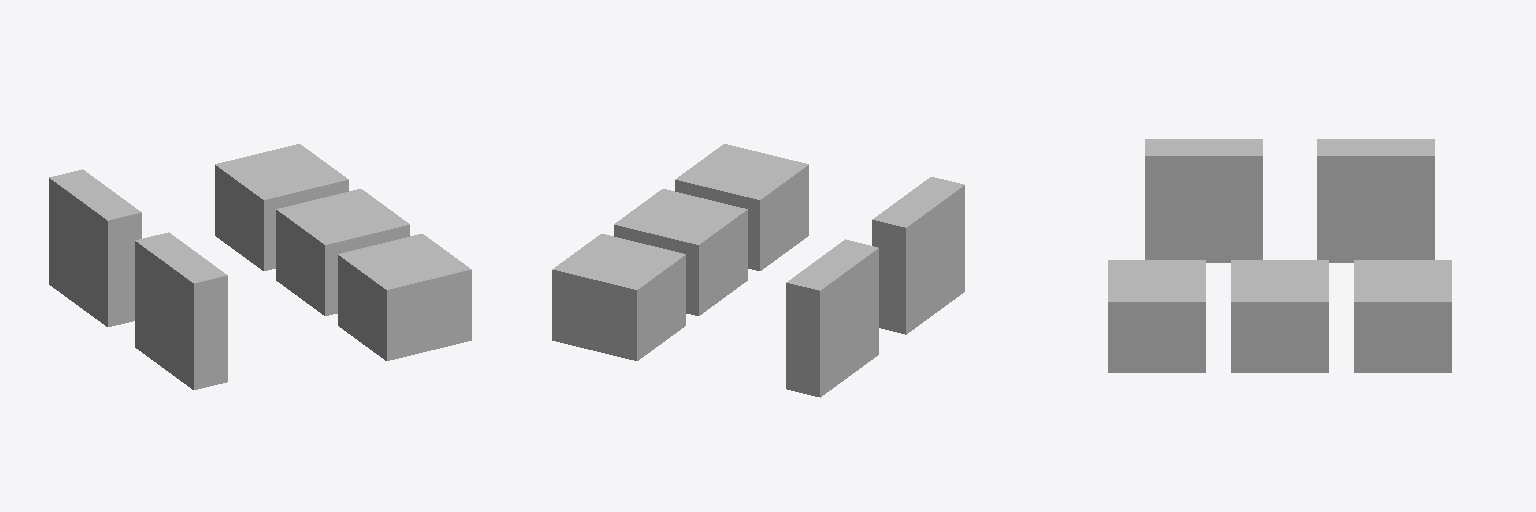
The model's file is alga 6.obj.
3 renders of one model, left to right at view 1: azimuth 30°, elevation 25°; view 2: azimuth 150°, elevation 25°; view 3: azimuth 270°, elevation 25°, orthographic.
Size of the model in its own units: 1.22 by 0.48 by 1.4.